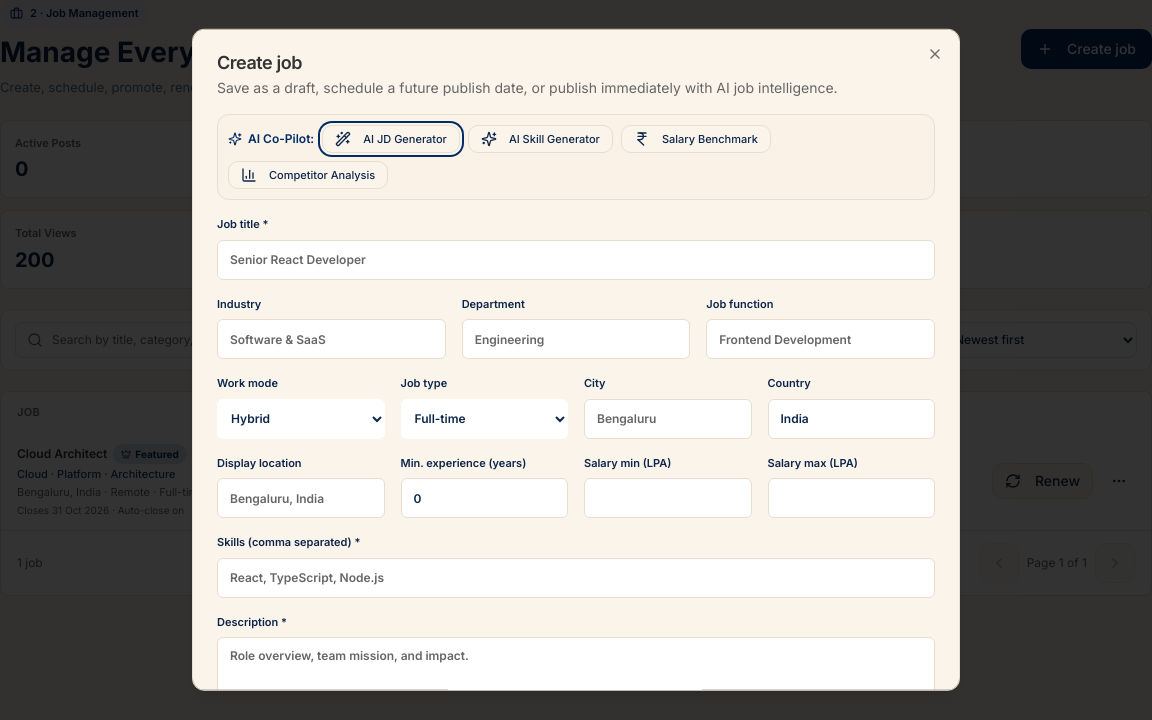
2. Job Management & 3. Job Applications Management (Live & Demo) › renders Section 2 Job Management with AI Co-Pilot, benchmarks, competitor analysis, duplicate detection, and renewal
Expected: the heading "Manage Every Opportunity. From Posting to Placement." is shown, [0,34,757,70]
Step 1. Type "Cloud Architect" into the field with placeholder "Senior React Developer" → (576, 259), box [217,239,935,279]
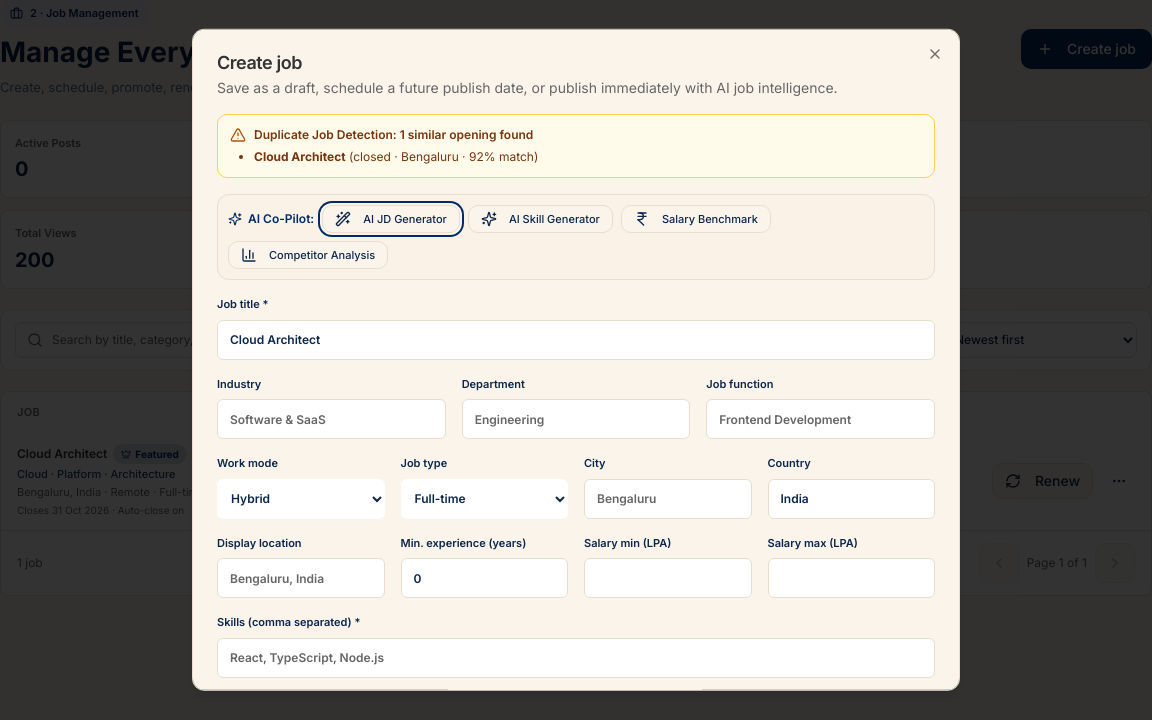
Result: the text "Duplicate Job Detection: 1 similar opening found" is shown at [230,127,533,143]
Step 2. Click the button "AI JD Generator" → (391, 219), box [322,205,460,233]
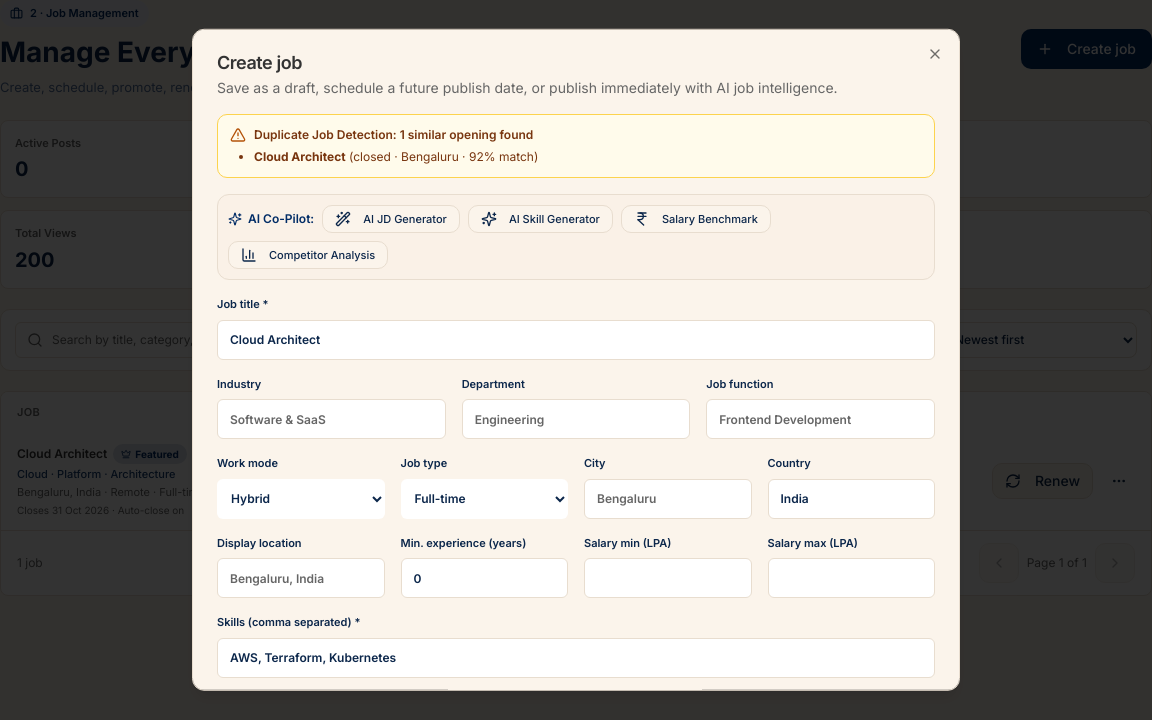
Step 3. Click the button "Salary Benchmark" → (696, 219), box [621,205,771,233]
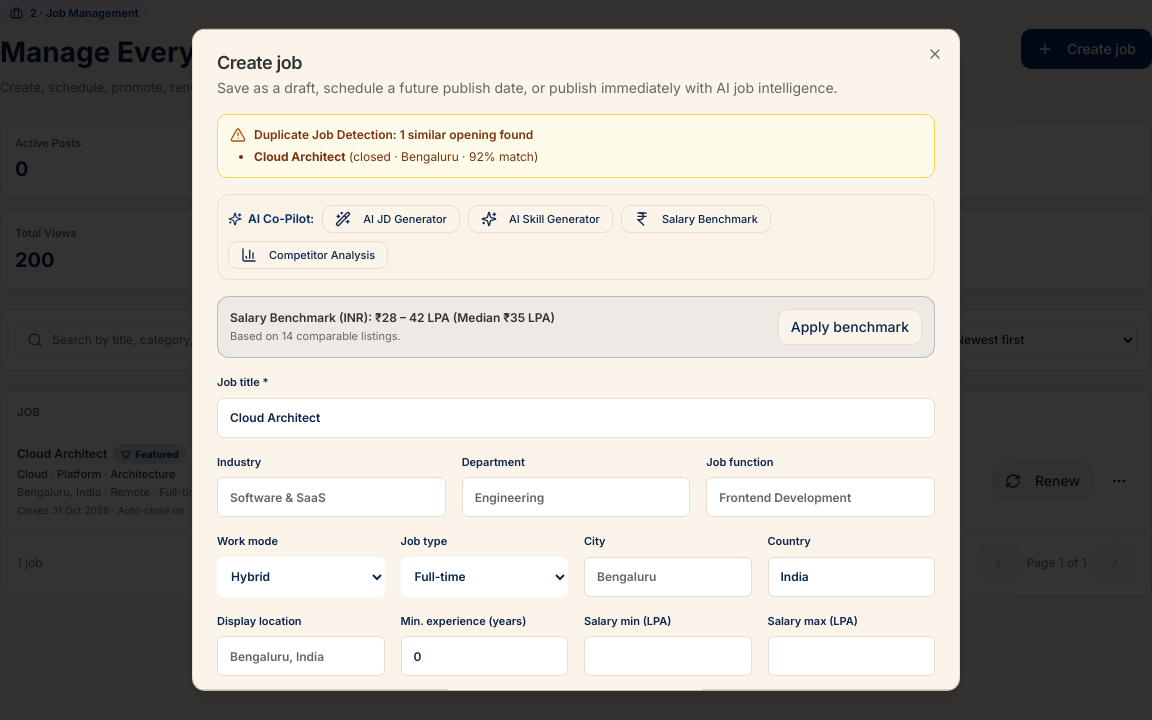
Result: the text "Salary Benchmark (INR): ₹28 – 42 LPA (Median ₹35 LPA)" is shown at [230,310,555,326]
Step 4. Click the button "Competitor Analysis" → (308, 255), box [228,241,388,269]
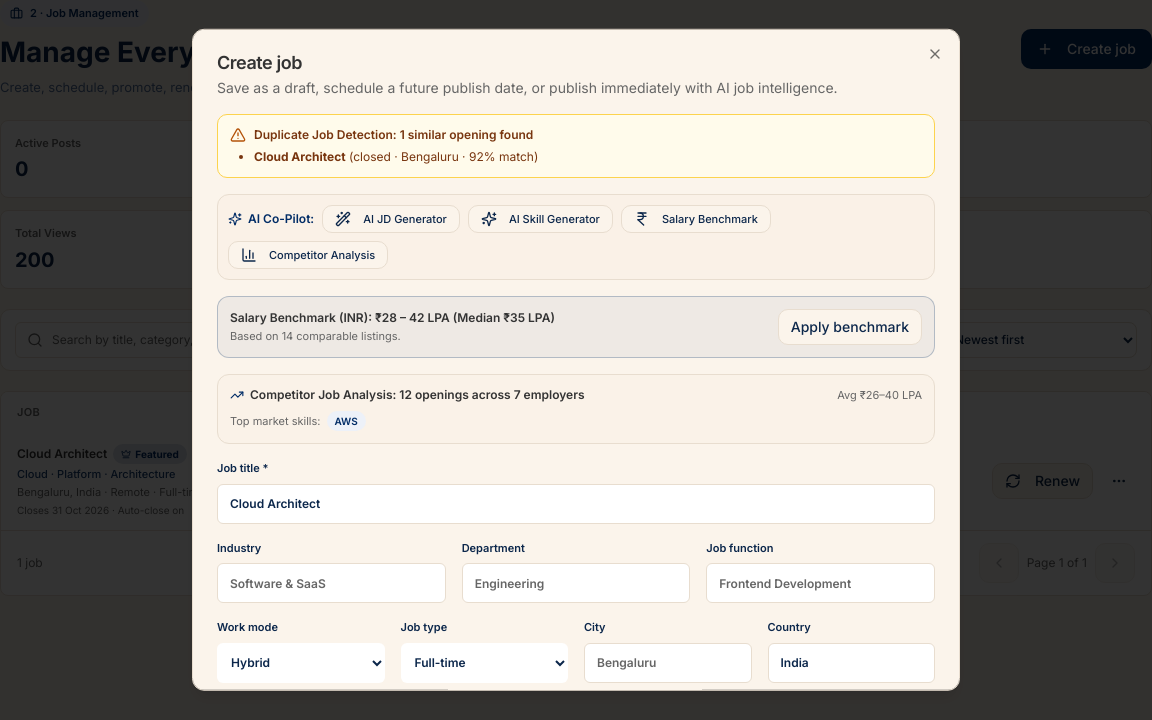
Result: the text "Competitor Job Analysis: 12 openings across 7 employers" is shown at [230,387,584,403]
